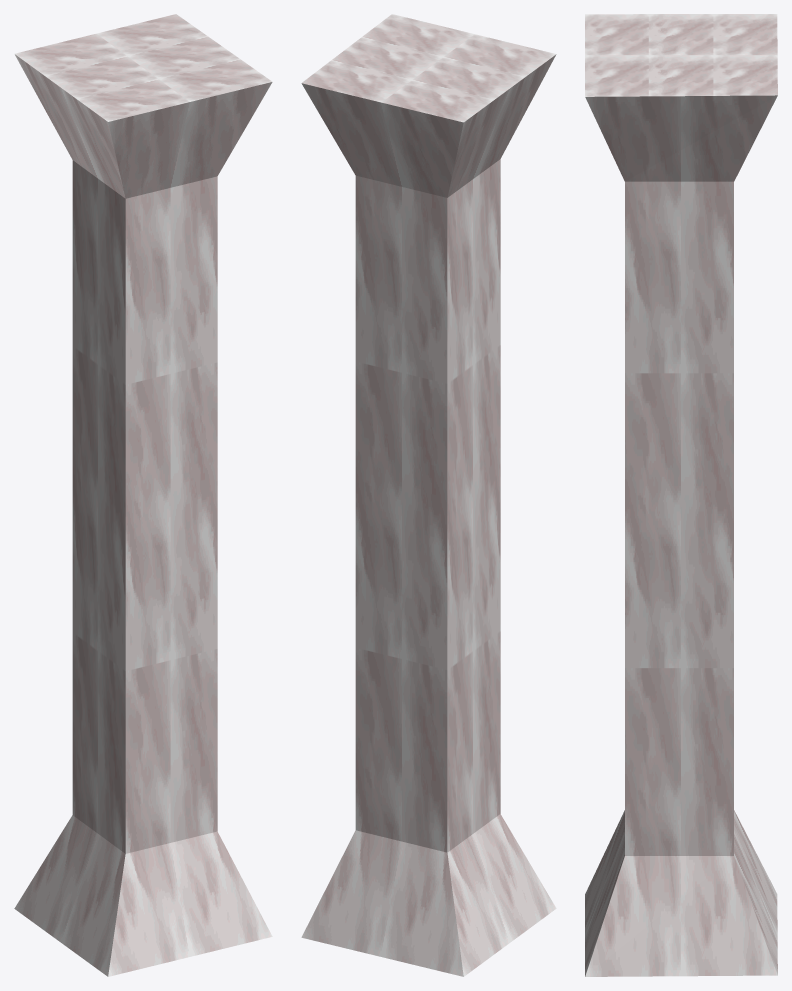
File: Juwellier_Colonne_all_2879.glb
The picture shows the model from 3 angles, left to right: view 1: azimuth 30°, elevation 25°; view 2: azimuth 150°, elevation 25°; view 3: azimuth 270°, elevation 25°; orthographic projection. The views are drawn at different scales.
Visible parts, largest first — view 1: _______________out; view 2: _______________out; view 3: _______________out.
Boxes of the visible parts, left/top/right/bottom form: _______________out: left=14, top=14, right=272, bottom=976; _______________out: left=301, top=14, right=556, bottom=976; _______________out: left=585, top=14, right=777, bottom=976.
Size of the model in its own units: 0.0749 by 0.371 by 0.0737.
1 material, 1 textured.
